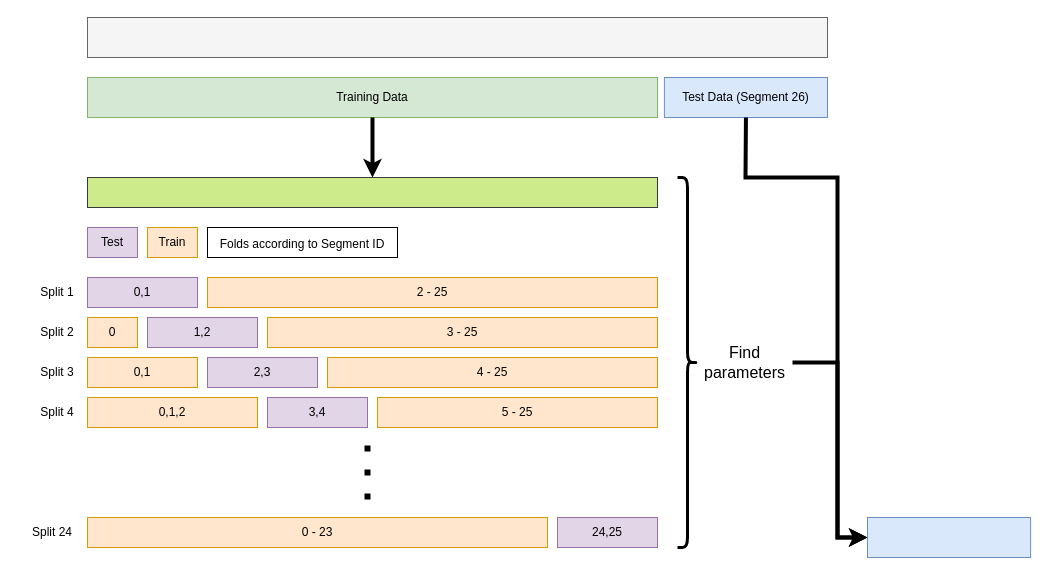
Image size: 1048x575. Some labels were removed from this diagram. Each missing label, with the centre of its shape:
"All Data" belongs at (x=457, y=37).
"Cross Validation" belongs at (x=372, y=192).
"Final evaluation" belongs at (x=948, y=537).
